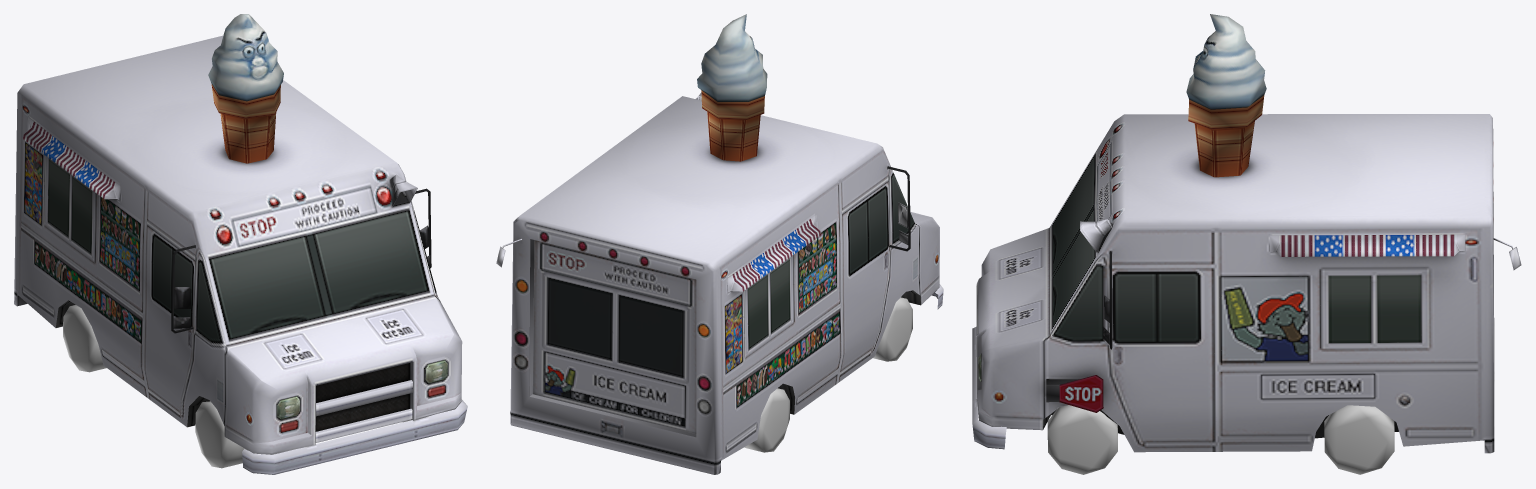
Rendered from IceCream_Truck.fbx.
3 renders of one model, left to right at view 1: azimuth 30°, elevation 25°; view 2: azimuth 150°, elevation 25°; view 3: azimuth 270°, elevation 25°, orthographic. The views are drawn at different scales.
Visible parts, largest first — view 1: IceCream_Truck, IceCream_Truck_Wheel_Front_R, IceCream_Truck_Wheel_Rear_R; view 2: IceCream_Truck, IceCream_Truck_Wheel_Rear_R, IceCream_Truck_Wheel_Front_R; view 3: IceCream_Truck, IceCream_Truck_Wheel_Rear_L, IceCream_Truck_Wheel_Front_L.
Boxes of the visible parts, <box> form: IceCream_Truck: <box>14,14,467,474</box>; IceCream_Truck_Wheel_Front_R: <box>195,401,248,468</box>; IceCream_Truck_Wheel_Rear_R: <box>63,305,106,372</box>; IceCream_Truck: <box>496,14,943,474</box>; IceCream_Truck_Wheel_Rear_R: <box>744,388,789,452</box>; IceCream_Truck_Wheel_Front_R: <box>873,297,912,361</box>; IceCream_Truck: <box>972,14,1521,453</box>; IceCream_Truck_Wheel_Rear_L: <box>1324,405,1394,474</box>; IceCream_Truck_Wheel_Front_L: <box>1047,405,1117,474</box>.
Bounding box in the file's own units: 3.14 × 4.4 × 5.41.
